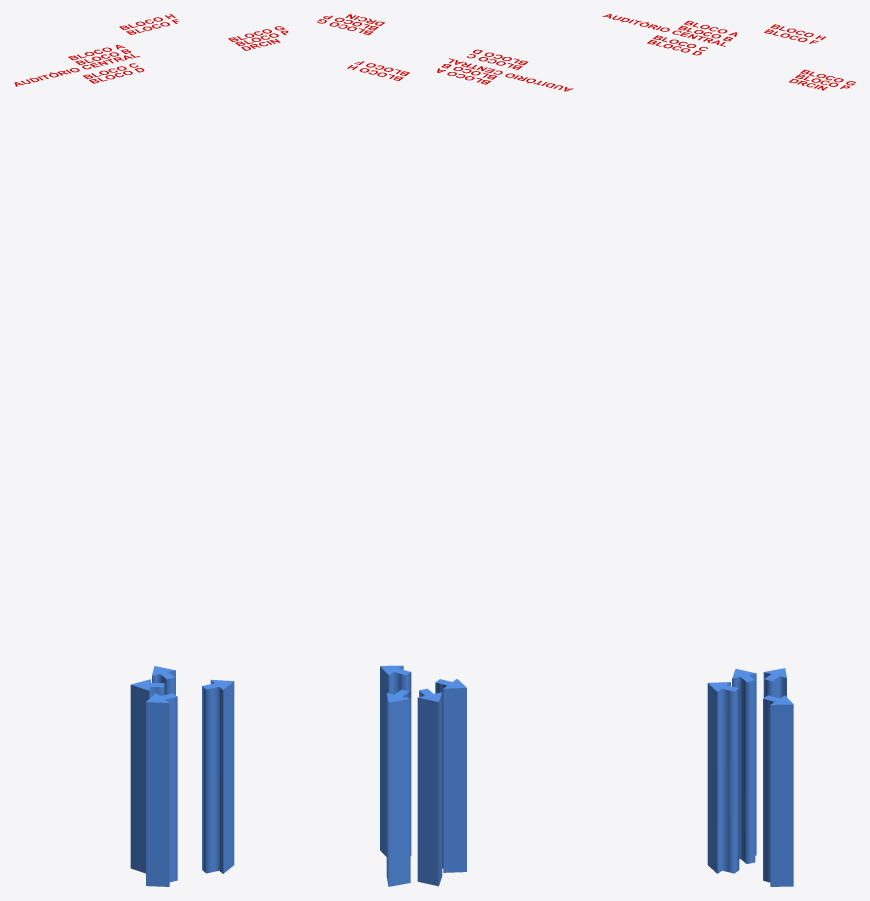
File: bloco E - 1.glb
3 renders of one model, left to right at view 1: azimuth 30°, elevation 25°; view 2: azimuth 150°, elevation 25°; view 3: azimuth 330°, elevation 25°, orthographic.
Visible parts, largest first — view 1: Curve.003, Curve.001, Curve.005; view 2: Curve.005, Curve.001, Curve.006, Curve.003; view 3: Curve.001, Curve.003, Curve.005, Curve.006.
Boxes of the visible parts, box(x1,y1,x2,y2) form: Curve.003: box(202, 679, 234, 873); Curve.001: box(146, 693, 177, 886); Curve.005: box(130, 679, 164, 873); Curve.005: box(417, 688, 442, 886); Curve.001: box(435, 679, 466, 872); Curve.006: box(386, 689, 410, 886); Curve.003: box(380, 665, 411, 856); Curve.001: box(707, 682, 739, 873); Curve.003: box(763, 695, 793, 886); Curve.005: box(732, 669, 756, 863); Curve.006: box(763, 668, 786, 698).
Bounding box in the file's own units: 0.1958 × 0.5868 × 0.0736.
